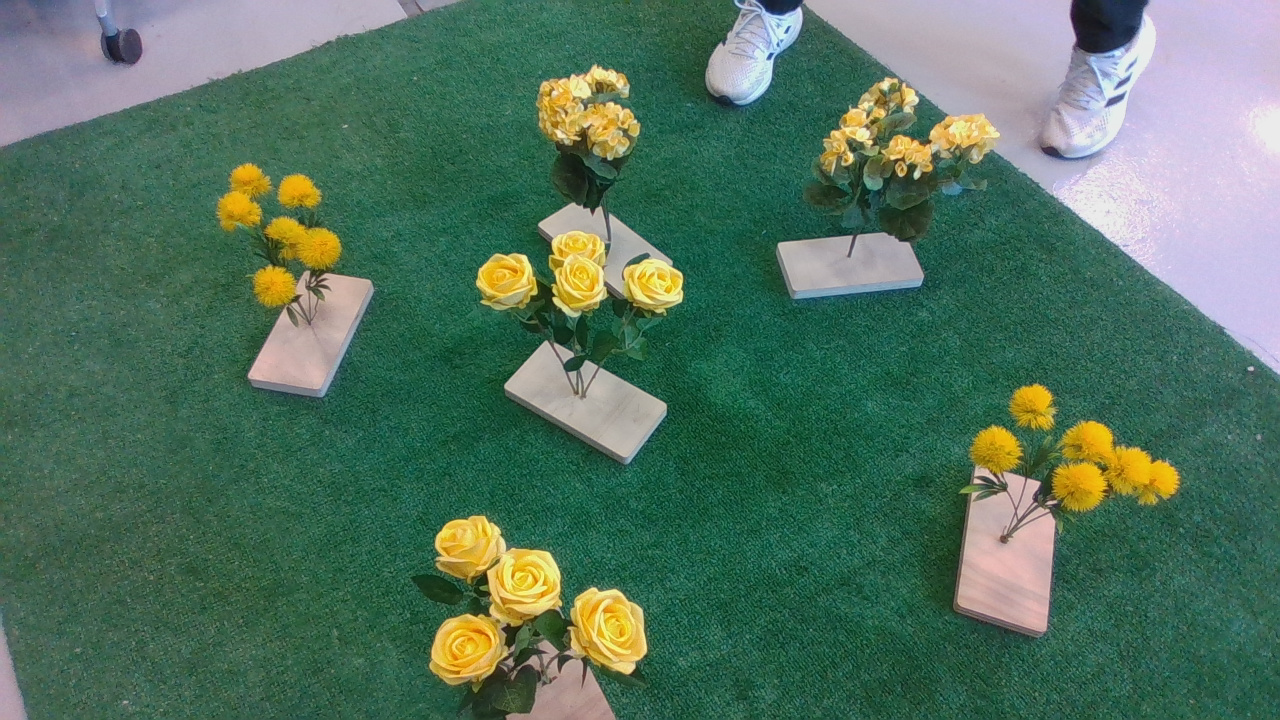dandelion: (956, 385, 1207, 540), (205, 157, 358, 325)
geranium: (803, 76, 1017, 251), (536, 63, 649, 223)
rose: (393, 497, 668, 720), (475, 235, 710, 375)
